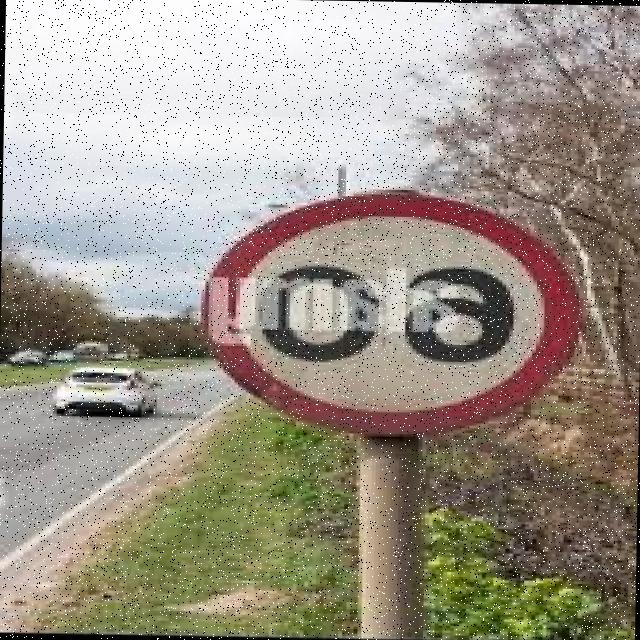speed_limit_60: (175, 190, 608, 440)
